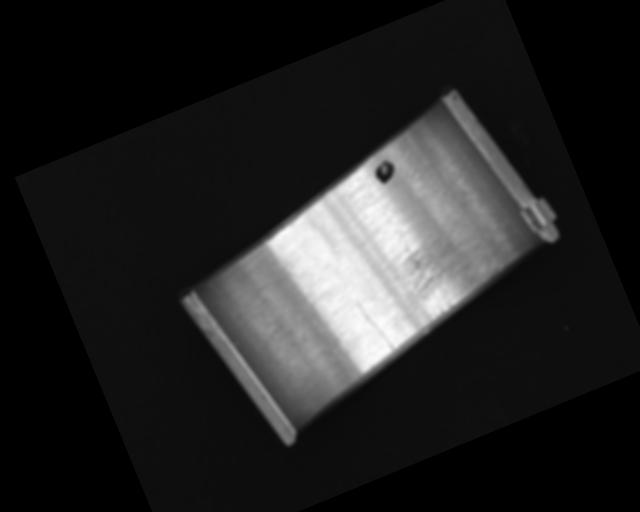blot: (371, 157, 399, 186)
nick: (206, 263, 279, 360), (353, 293, 394, 356)
scratch: (385, 214, 514, 333)
